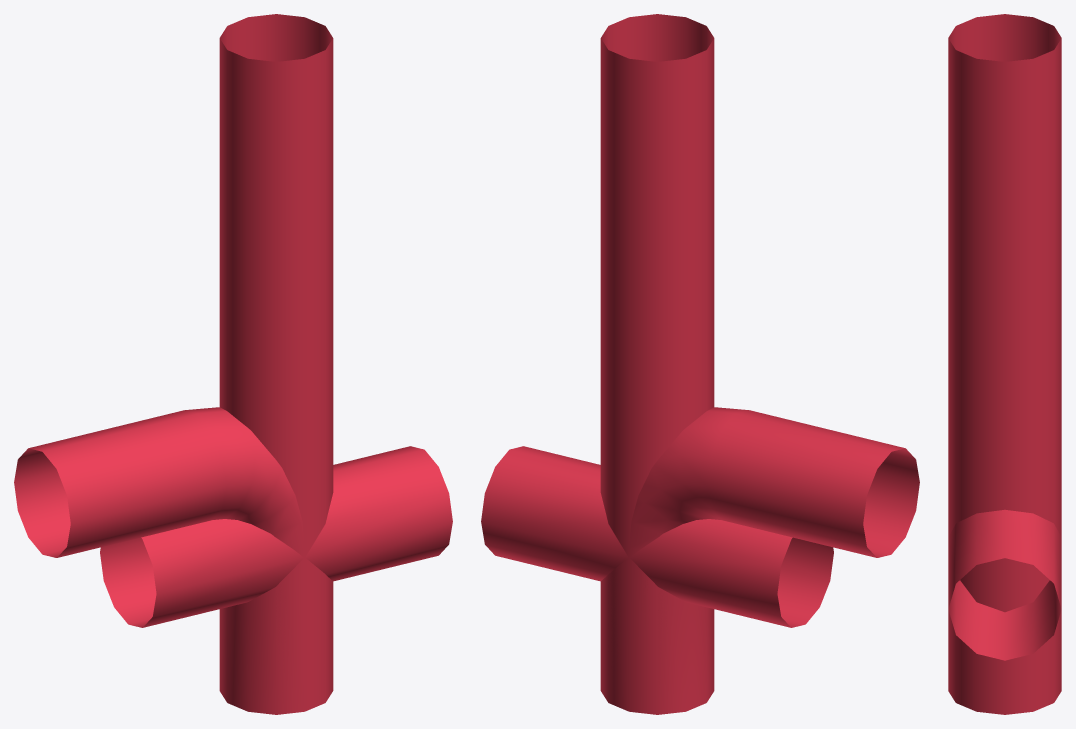
Rendered from Pipe_Connection.fbx.
3 renders of one model, left to right at view 1: azimuth 30°, elevation 25°; view 2: azimuth 150°, elevation 25°; view 3: azimuth 270°, elevation 25°, orthographic.
Parts seen in each view (by area): view 1: Cylinder.004, Cylinder.007, Cross Joint, Tee Joint.002; view 2: Cylinder.004, Cylinder.007, Cross Joint, Tee Joint.002; view 3: Cylinder.004, Cross Joint, Cylinder.007.
Boxes of the visible parts, left/top/right/bottom form: Cylinder.004: left=219, top=14, right=333, bottom=714; Cylinder.007: left=14, top=407, right=325, bottom=714; Cross Joint: left=100, top=446, right=452, bottom=627; Tee Joint.002: left=101, top=537, right=303, bottom=627; Cylinder.004: left=600, top=14, right=714, bottom=714; Cylinder.007: left=608, top=407, right=919, bottom=714; Cross Joint: left=481, top=446, right=833, bottom=627; Tee Joint.002: left=630, top=537, right=832, bottom=627; Cylinder.004: left=948, top=14, right=1061, bottom=714; Cross Joint: left=948, top=509, right=1061, bottom=660; Cylinder.007: left=948, top=610, right=1061, bottom=694.
Size of the model in its own units: 49 by 80 by 12.61.
